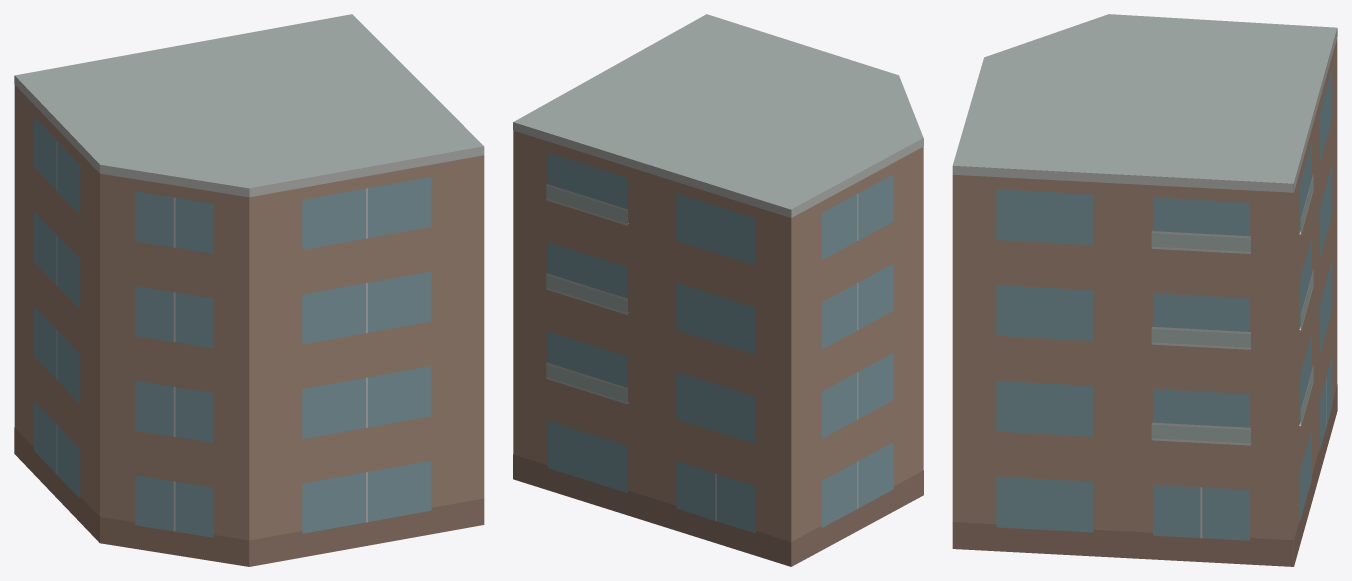
File: survey-upis-32523175.glb
3 views of the same model, side by side, from view 1: azimuth 30°, elevation 25°; view 2: azimuth 150°, elevation 25°; view 3: azimuth 270°, elevation 25° (orthographic). The views are drawn at different scales.
Visible parts, largest first — view 1: survey-upis-32523175.tmp; view 2: survey-upis-32523175.tmp; view 3: survey-upis-32523175.tmp.
Boxes of the visible parts, <box> form: survey-upis-32523175.tmp: <box>14,14,484,566</box>; survey-upis-32523175.tmp: <box>513,14,923,566</box>; survey-upis-32523175.tmp: <box>952,14,1337,566</box>.
Bounding box in the file's own units: 9.89 × 10.4 × 9.48.
